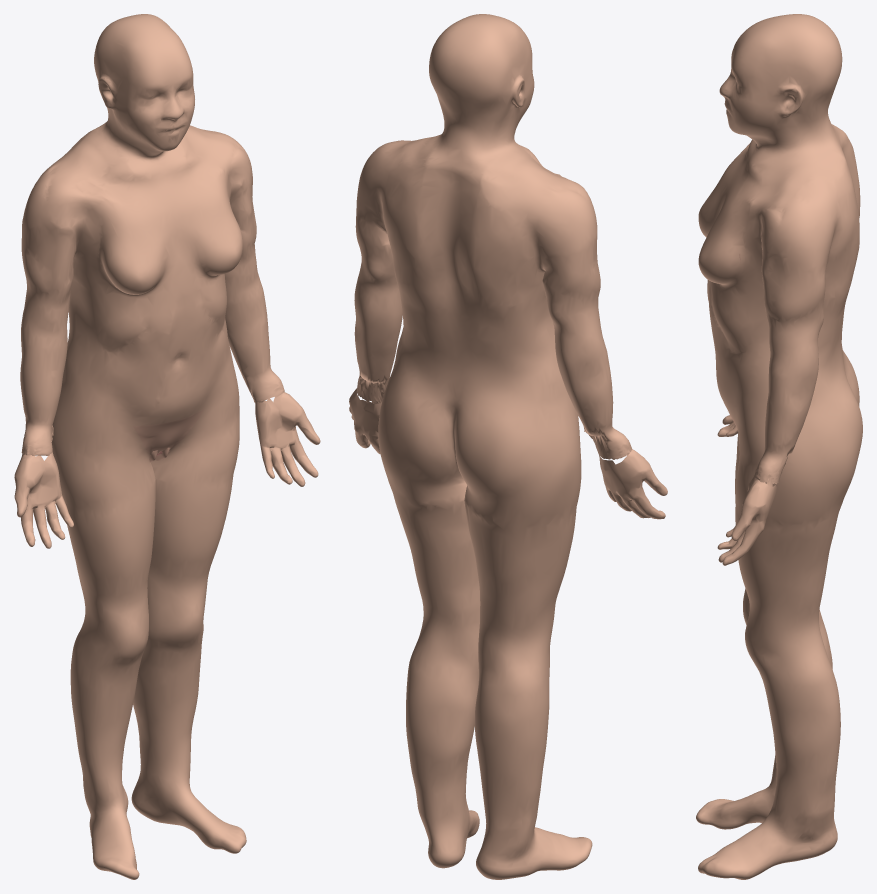
Rendered from pele-feminina.glb.
The picture shows the model from 3 angles, left to right: view 1: azimuth 30°, elevation 25°; view 2: azimuth 150°, elevation 25°; view 3: azimuth 270°, elevation 25°; orthographic projection. The views are drawn at different scales.
Parts seen in each view (by area): view 1: VHF_skin, VHF_mons_pubis; view 2: VHF_skin; view 3: VHF_skin.
Part boxes in pixels (box(x1,y1,x2,y2)): VHF_skin: box(14, 14, 320, 879); VHF_mons_pubis: box(133, 409, 203, 453); VHF_skin: box(349, 14, 667, 879); VHF_skin: box(696, 14, 862, 879).
Bounding box in the file's own units: 0.6667 × 1.72 × 0.3125.
